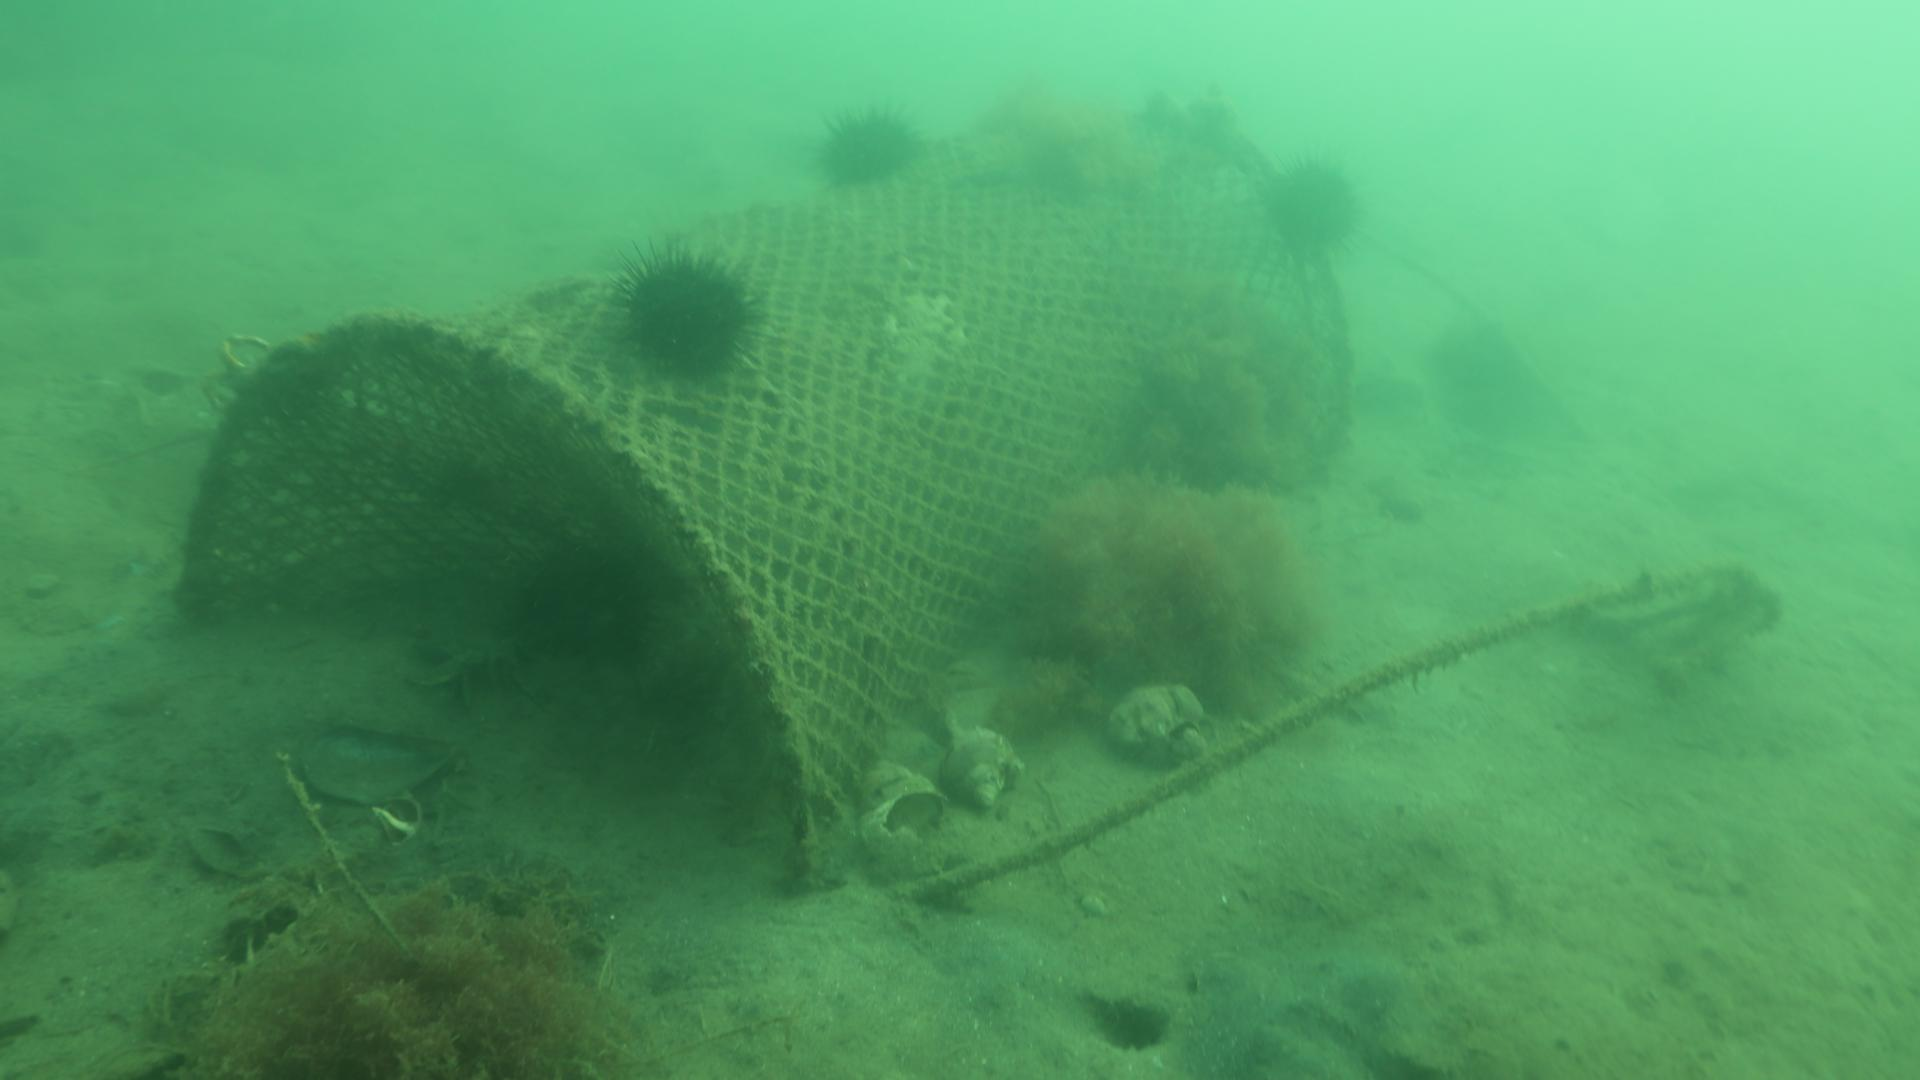rope: (895, 560, 1778, 894)
spring fish trap: (175, 99, 1352, 891)
